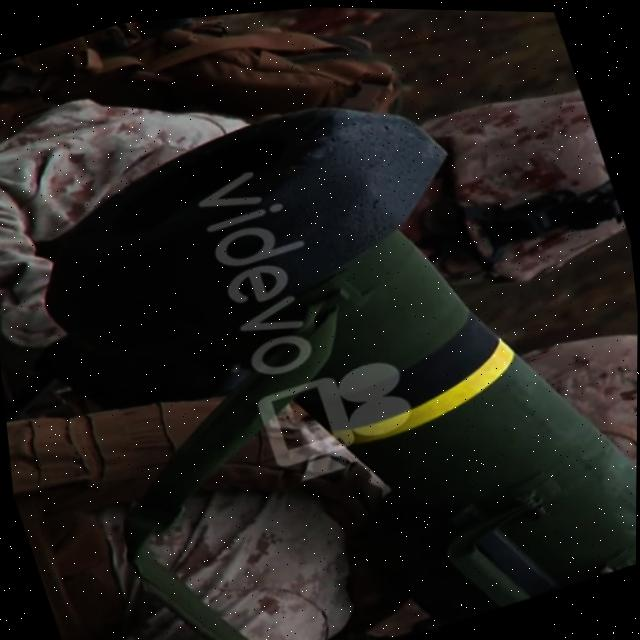rocket: (3, 17, 640, 640)
